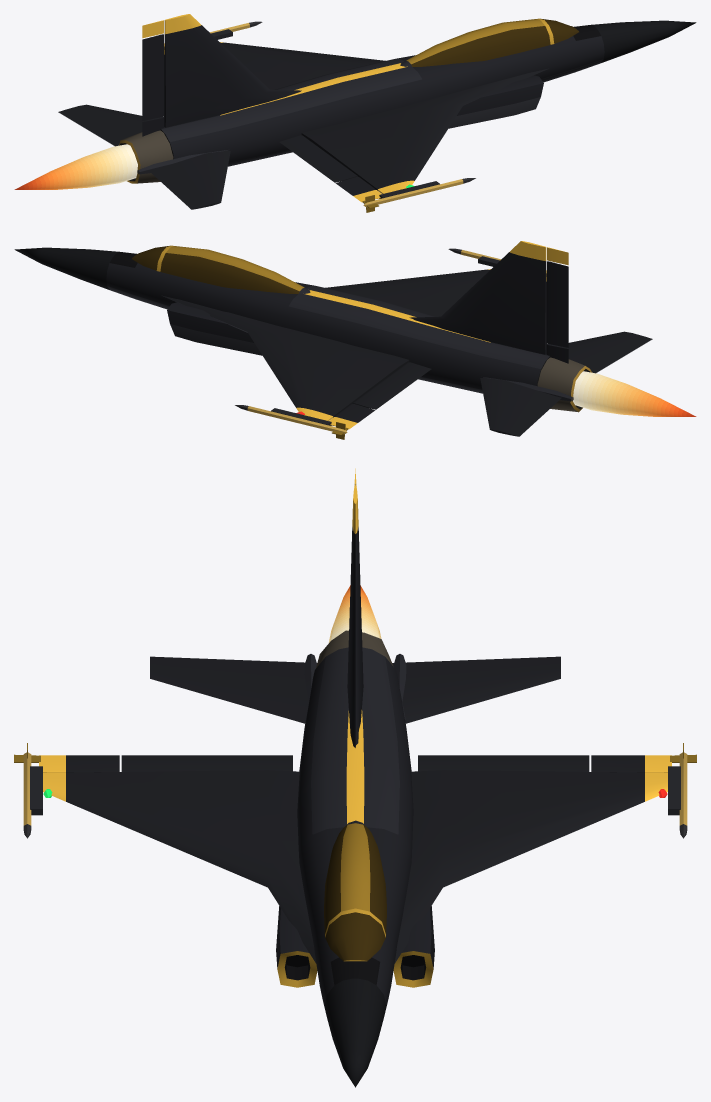
The model's file is fighter_ace.glb.
The picture shows the model from 3 angles, top to bottom: view 1: azimuth 30°, elevation 25°; view 2: azimuth 150°, elevation 25°; view 3: azimuth 270°, elevation 25°; orthographic projection. The views are drawn at different scales.
Visible parts, largest first — view 1: Body, Afterburner, Stab_R, Stab_L, Rudder, Flaperon_R; view 2: Body, Afterburner, Stab_L, Stab_R, Rudder, Flaperon_L; view 3: Body, Stab_L, Stab_R, Flaperon_L, Flaperon_R, Afterburner.
Part boxes in pixels (bbox=[...]): Body: bbox=[117, 14, 696, 212]; Afterburner: bbox=[14, 144, 137, 189]; Stab_R: bbox=[149, 150, 230, 209]; Stab_L: bbox=[58, 104, 153, 146]; Rudder: bbox=[142, 34, 164, 120]; Flaperon_R: bbox=[279, 135, 358, 182]; Body: bbox=[14, 241, 593, 439]; Afterburner: bbox=[573, 371, 696, 416]; Stab_L: bbox=[480, 377, 565, 436]; Stab_R: bbox=[557, 331, 652, 373]; Rudder: bbox=[546, 261, 568, 347]; Flaperon_L: bbox=[352, 362, 431, 409]; Body: bbox=[14, 468, 696, 1087]; Stab_L: bbox=[392, 656, 560, 723]; Stab_R: bbox=[150, 656, 317, 723]; Flaperon_L: bbox=[418, 755, 589, 771]; Flaperon_R: bbox=[121, 755, 292, 771]; Afterburner: bbox=[328, 585, 381, 642].
Bounding box in the file's own units: 18 × 4 × 10.14.
Materials: 2 (2 with a texture image).
